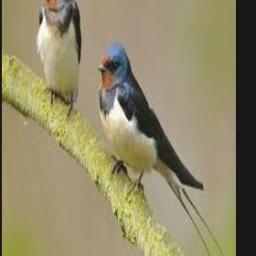Swallow: (97, 44, 223, 256), (37, 0, 82, 108)
